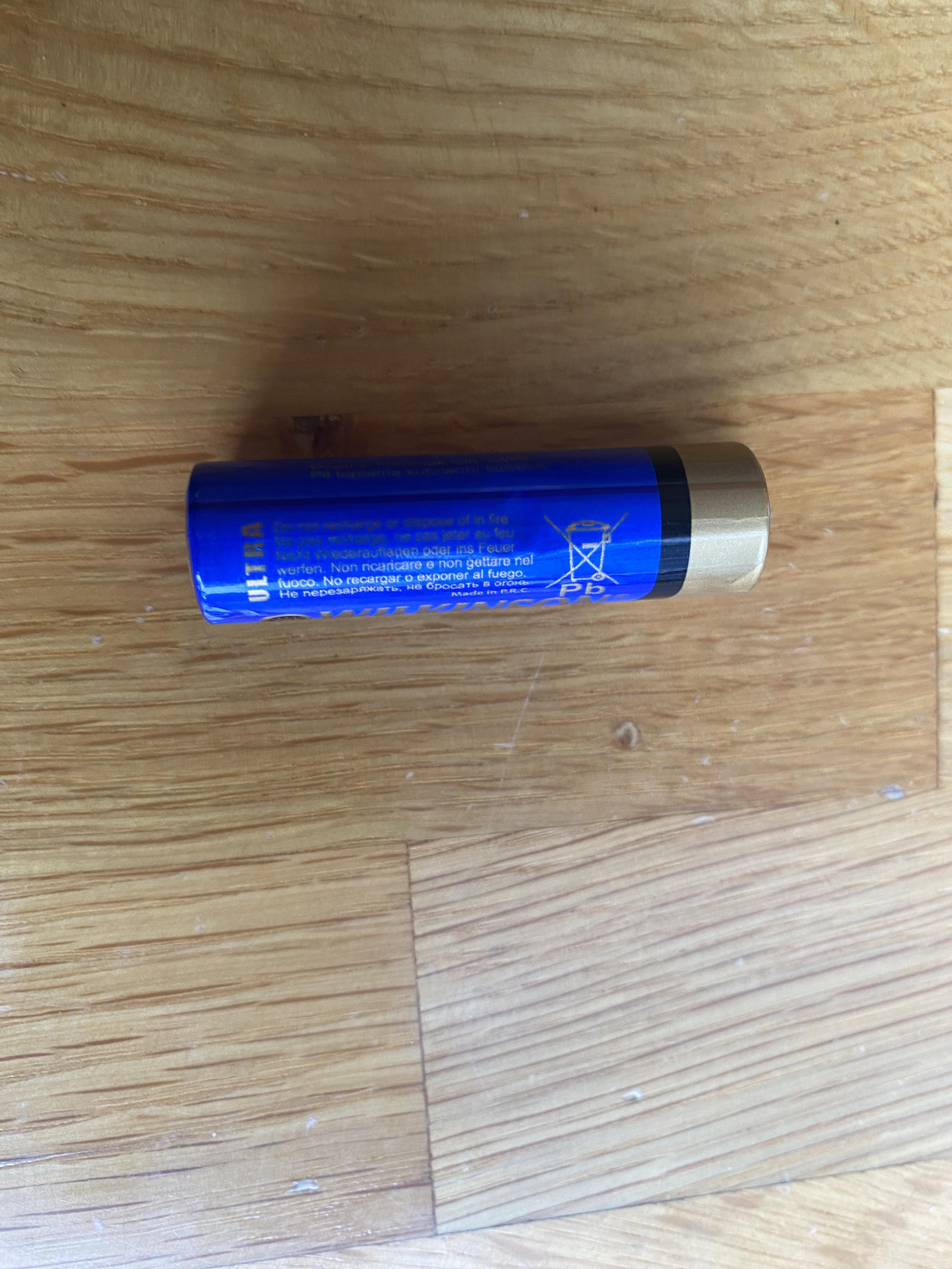AA: (185, 438, 771, 626)
